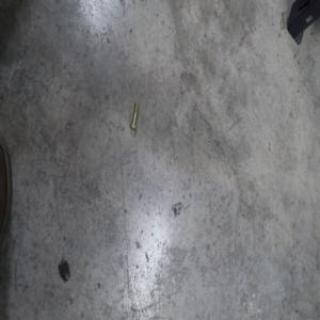Bolttrack_idkeyframe: (128, 101, 138, 131)
